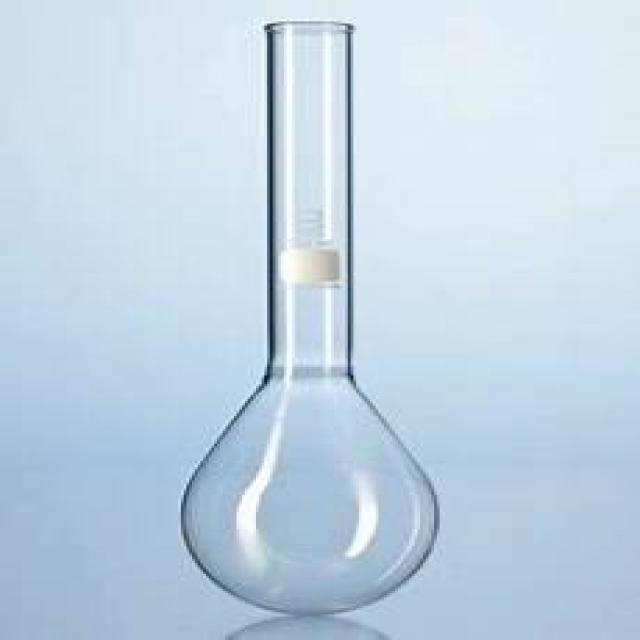Volumetric flask: (178, 22, 442, 617)
